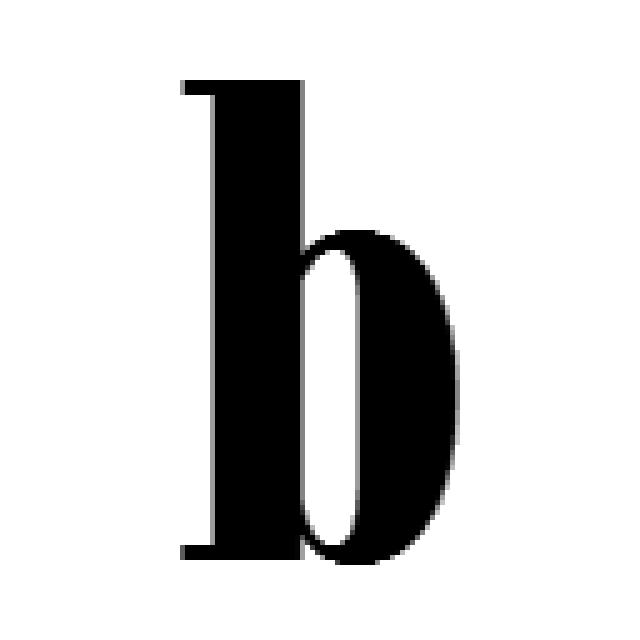B: (180, 80, 460, 565)
